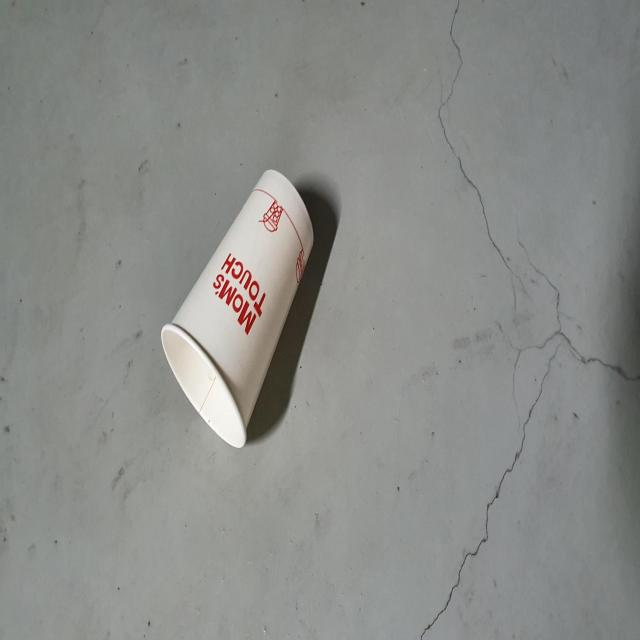paperpack: (161, 169, 313, 448)
